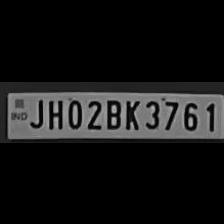0: (64, 96, 82, 128)
1: (201, 98, 219, 130)
2: (84, 96, 103, 128)
3: (142, 97, 160, 129)
6: (179, 98, 199, 130)
7: (160, 98, 178, 130)
B: (102, 96, 120, 128)
H: (44, 96, 64, 128)
J: (26, 96, 44, 128)
K: (121, 96, 141, 130)
